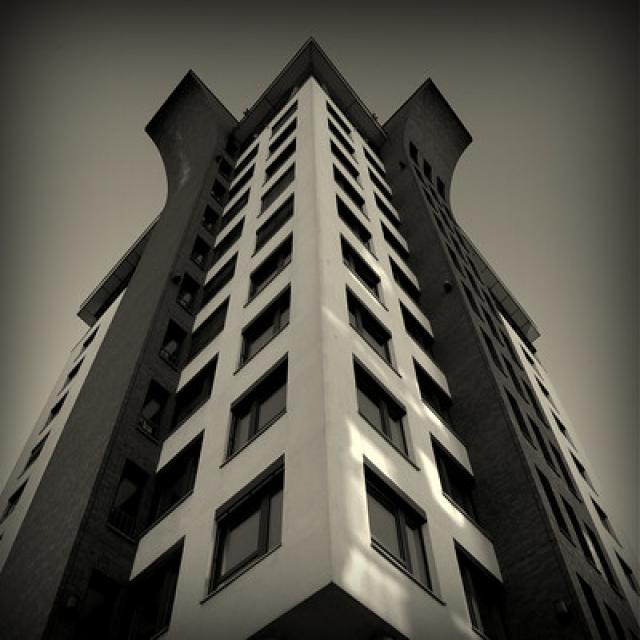Normal_building: (5, 30, 638, 640)
